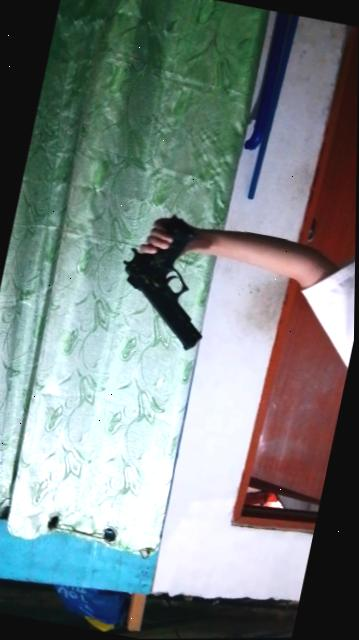pistol: (89, 197, 230, 365)
